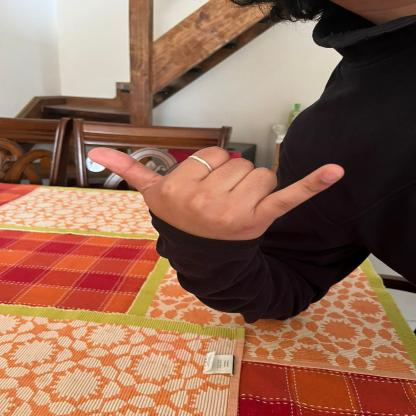Y: (83, 121, 349, 246)
